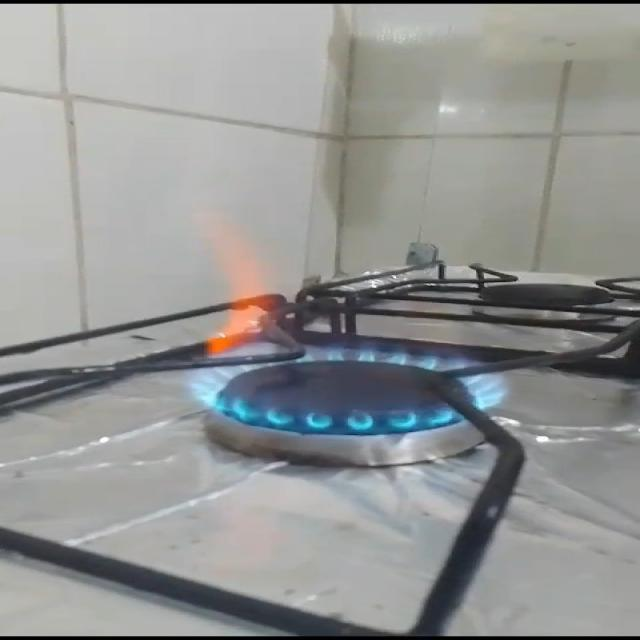fogo-ypXI: (169, 206, 512, 441)
